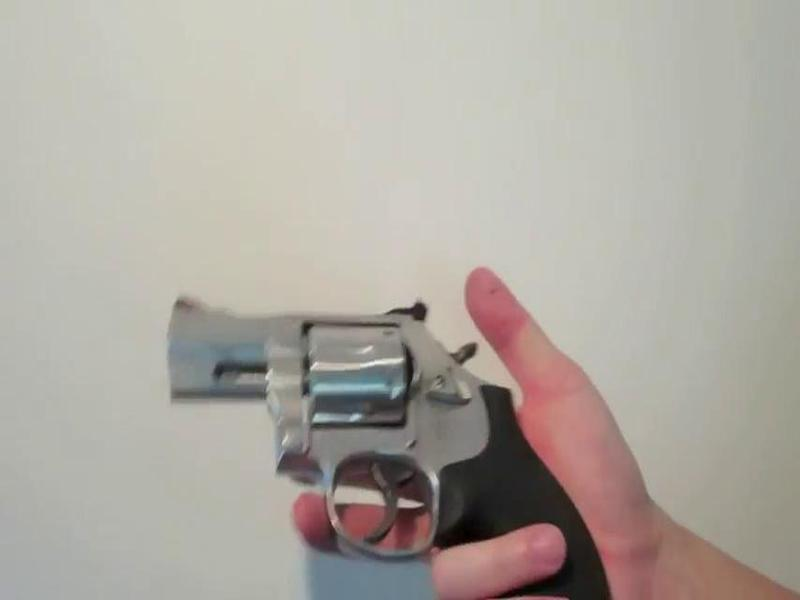Revolver: (147, 268, 559, 575)
